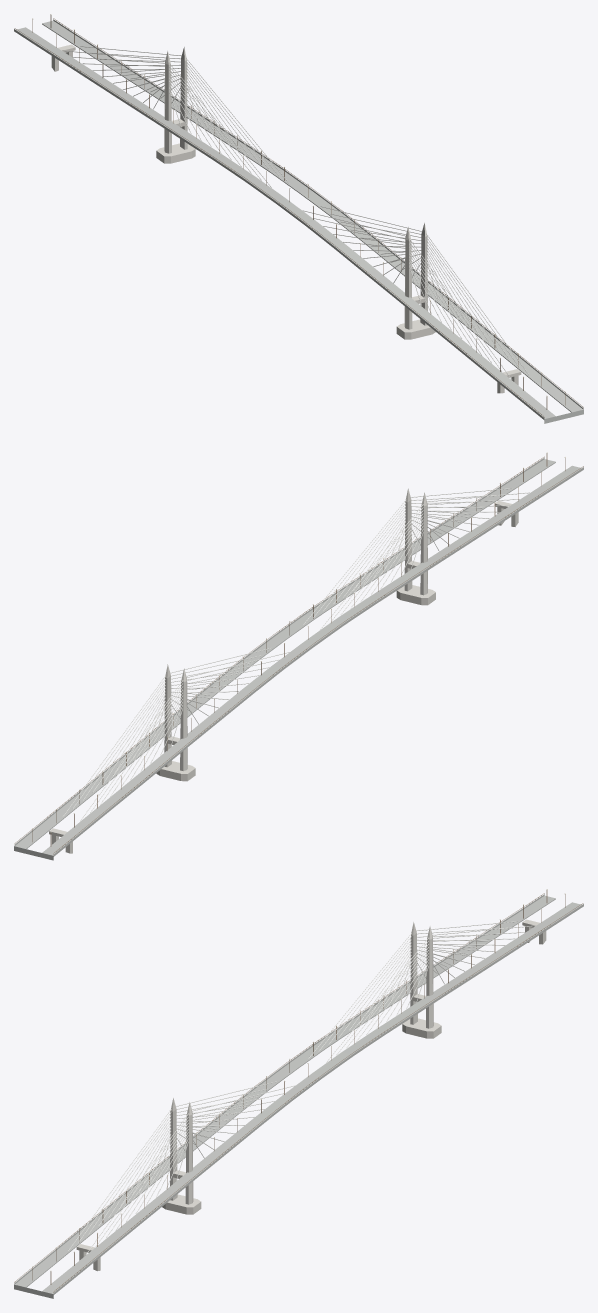
File: pdx-tilikum-crossing.detail.glb
3 renders of one model, top to bottom at view 1: azimuth 30°, elevation 25°; view 2: azimuth 150°, elevation 25°; view 3: azimuth 330°, elevation 25°, orthographic.
Parts seen in each view (by area): view 1: Tilikum Crossing; view 2: Tilikum Crossing; view 3: Tilikum Crossing.
Boxes of the visible parts, x1,y1,x2,y2 form: Tilikum Crossing: (14, 14, 583, 423); Tilikum Crossing: (14, 452, 583, 860); Tilikum Crossing: (14, 889, 583, 1298).
Size of the model in its own units: 22.8 by 59.6 by 527.
